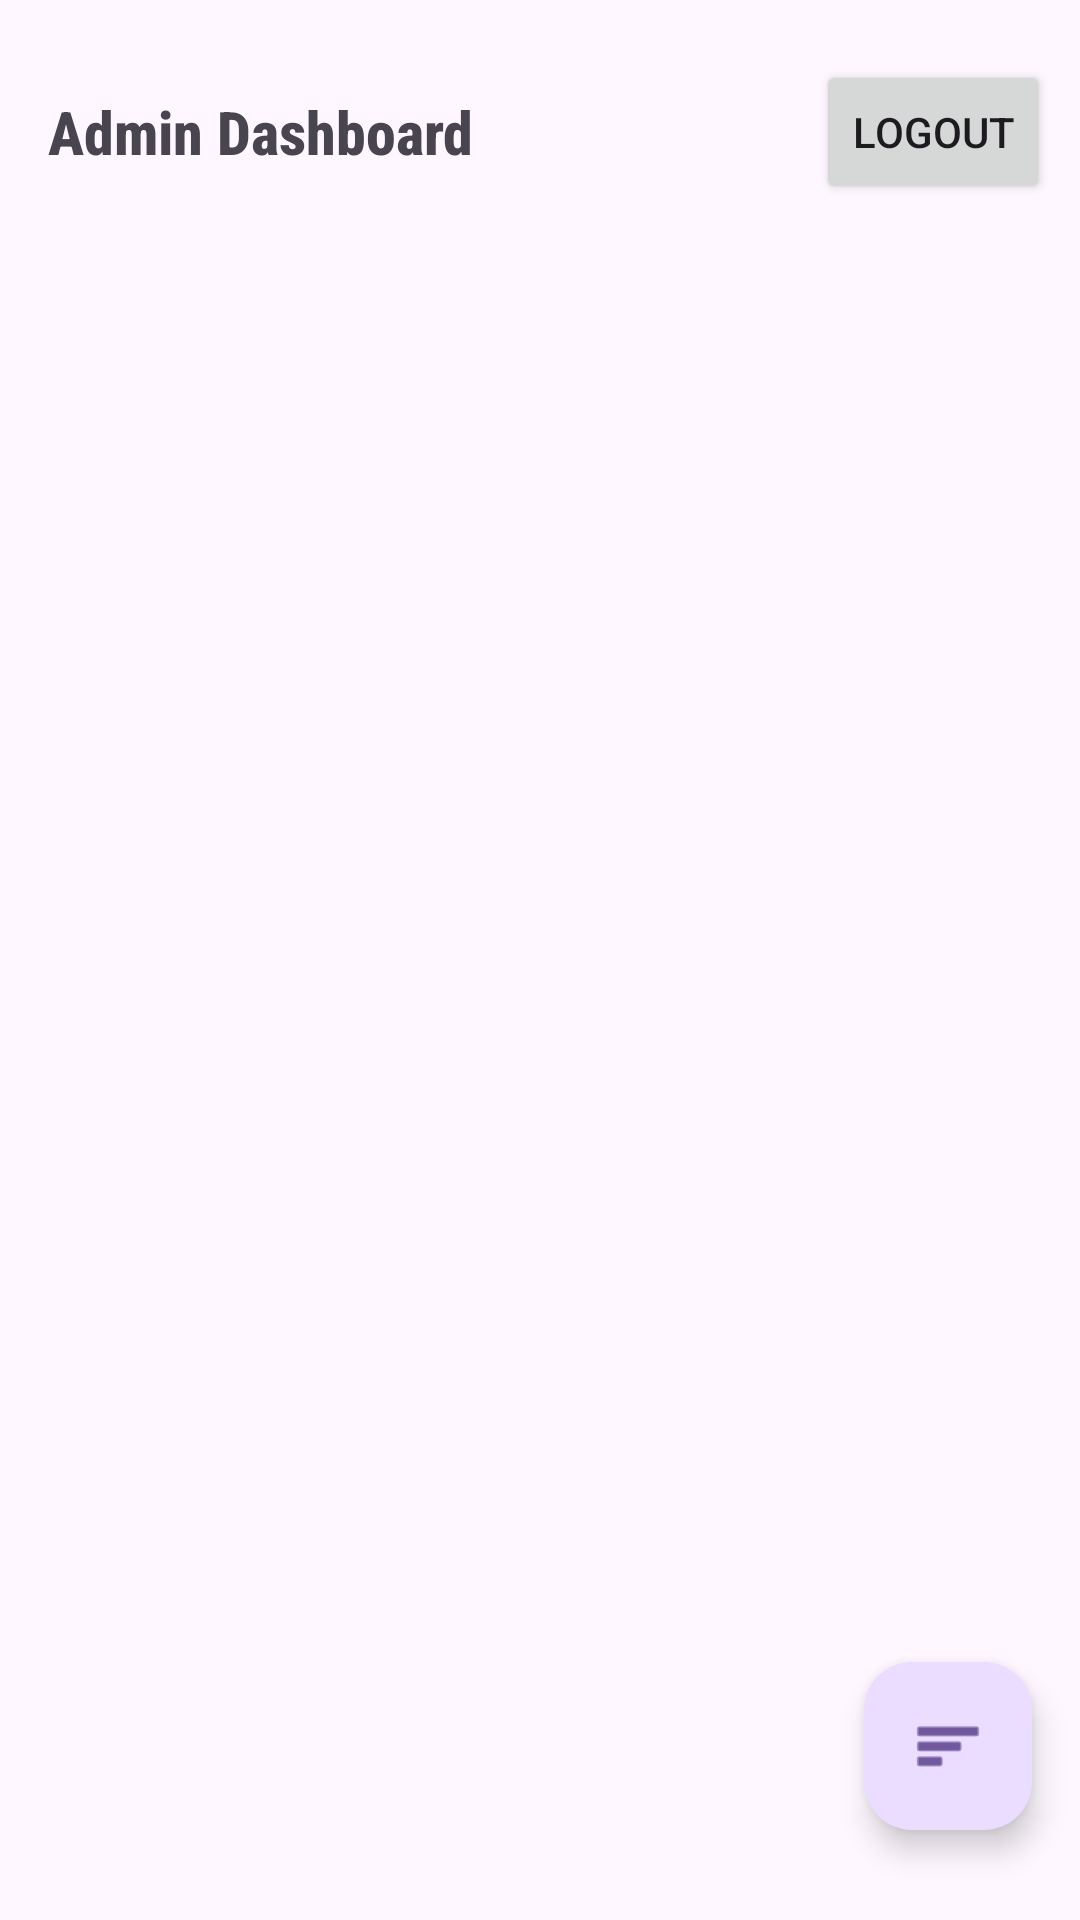

Icons on this 1080*1920 Android screen, each with the point to tap as (x=x, y=y):
sort by size: (x=948, y=1746)
